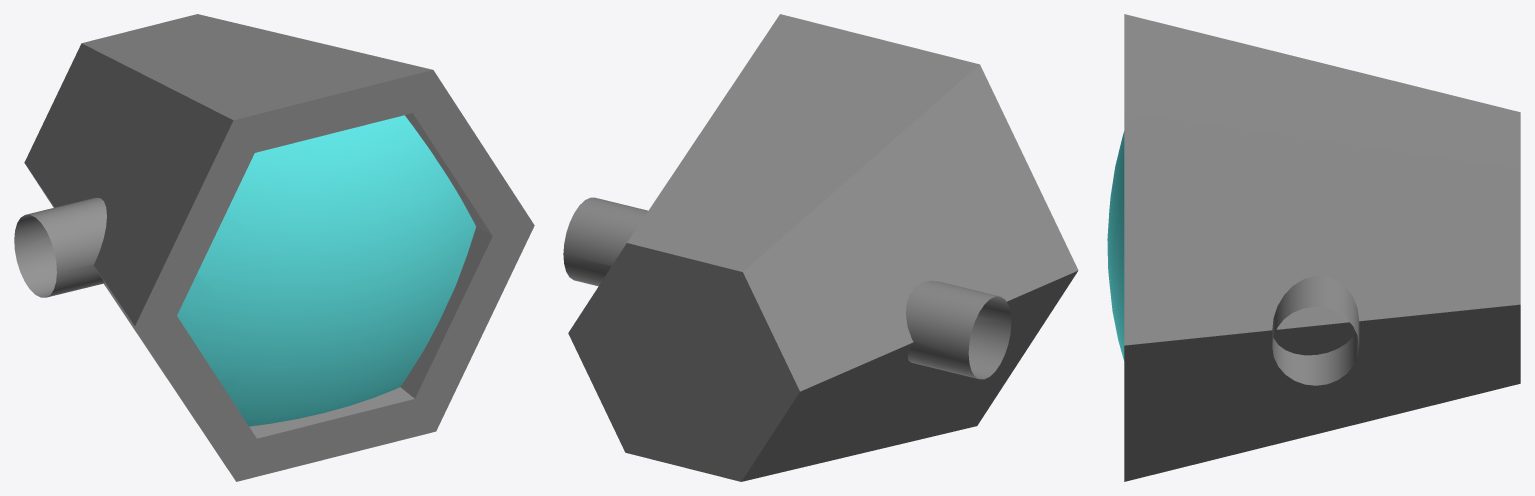
File: MovingHead3DX_Head.obj
The picture shows the model from 3 angles, left to right: view 1: azimuth 30°, elevation 25°; view 2: azimuth 150°, elevation 25°; view 3: azimuth 270°, elevation 25°; orthographic projection.
Parts seen in each view (by area): view 1: Mesh1_Group2_Group1_Model, Mesh9_Group5_Model, Mesh3_Group3_Model; view 2: Mesh1_Group2_Group1_Model, Mesh3_Group3_Model, Mesh6_Group4_Model; view 3: Mesh1_Group2_Group1_Model, Mesh6_Group4_Model, Mesh9_Group5_Model.
Part boxes in pixels (x1,y1,x2,y2): Mesh1_Group2_Group1_Model: [24, 14, 534, 481]; Mesh9_Group5_Model: [177, 115, 475, 426]; Mesh3_Group3_Model: [14, 197, 106, 297]; Mesh1_Group2_Group1_Model: [568, 14, 1078, 481]; Mesh3_Group3_Model: [906, 280, 1011, 379]; Mesh6_Group4_Model: [563, 197, 647, 286]; Mesh1_Group2_Group1_Model: [1124, 14, 1520, 481]; Mesh6_Group4_Model: [1272, 276, 1359, 385]; Mesh9_Group5_Model: [1107, 131, 1124, 360].
Size of the model in its own units: 30.67 by 26.32 by 26.58.
